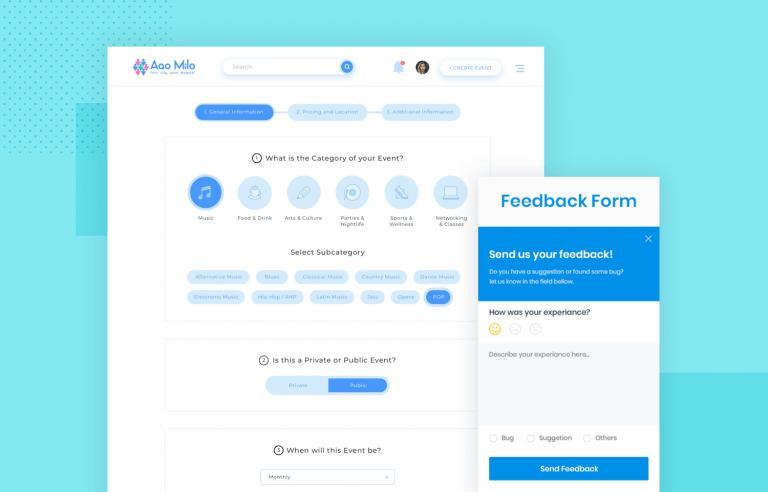button: (489, 457, 651, 483), (441, 61, 504, 77), (188, 271, 253, 285), (188, 291, 246, 305), (356, 270, 408, 285), (295, 271, 350, 285), (414, 270, 461, 286), (252, 291, 305, 305), (311, 291, 355, 305), (257, 271, 289, 285), (392, 291, 421, 306), (362, 291, 386, 305), (427, 291, 451, 305)
dropdown: (260, 469, 397, 486)
icon: (394, 62, 408, 75), (515, 64, 527, 75)
input: (223, 59, 355, 76)
label: (487, 247, 617, 262), (271, 356, 399, 369), (264, 154, 406, 163), (490, 349, 594, 361), (291, 248, 369, 262), (489, 308, 595, 318), (286, 447, 385, 457), (436, 217, 470, 227), (341, 216, 367, 228), (390, 216, 416, 228), (540, 435, 574, 444), (238, 216, 274, 223), (285, 216, 323, 222), (595, 435, 619, 442), (502, 435, 518, 443), (289, 384, 310, 389), (198, 217, 216, 222), (351, 383, 368, 388)
radio: (583, 434, 592, 445), (527, 434, 536, 445), (490, 436, 498, 443)
